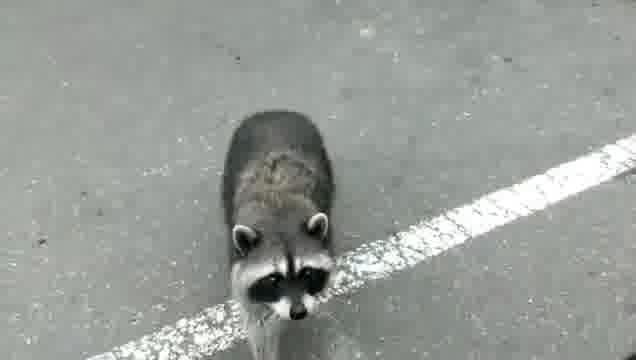raccoon: (210, 106, 341, 360)
